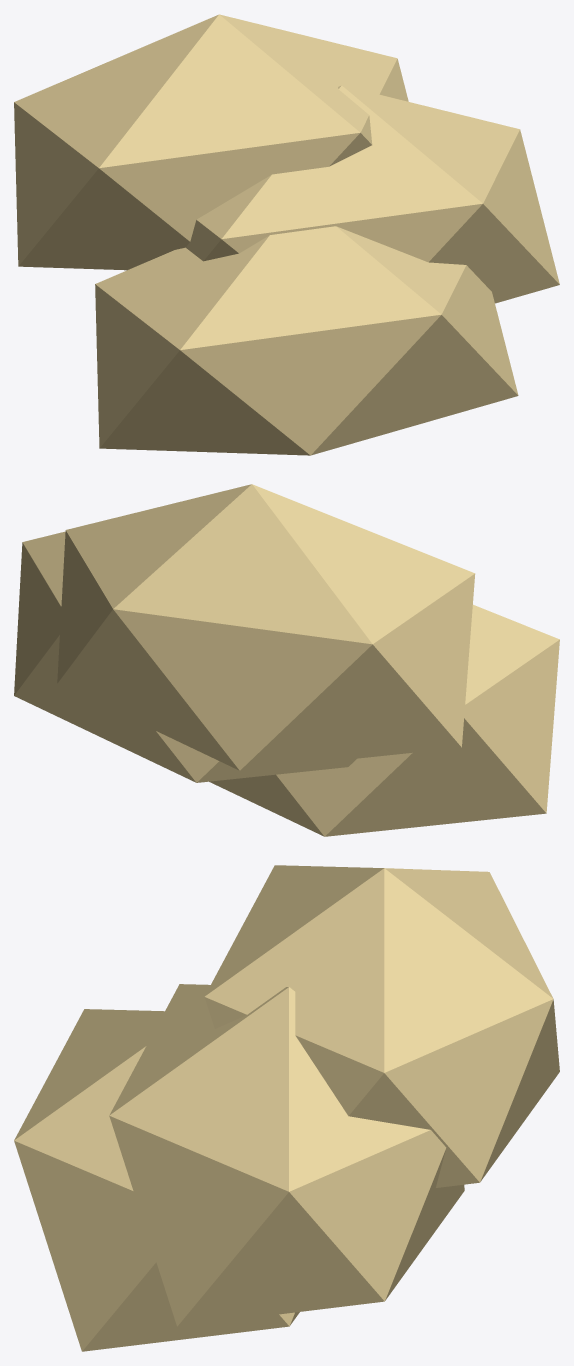
File: item_063_lentil_m.glb
3 views of the same model, one above another, from view 1: azimuth 30°, elevation 25°; view 2: azimuth 150°, elevation 25°; view 3: azimuth 270°, elevation 25° (orthographic). The views are drawn at different scales.
Parts seen in each view (by area): view 1: item_063_lentil_m; view 2: item_063_lentil_m; view 3: item_063_lentil_m.
Boxes of the visible parts, x1,y1,x2,y2 form: item_063_lentil_m: (14, 14, 559, 455); item_063_lentil_m: (14, 484, 559, 836); item_063_lentil_m: (14, 865, 559, 1351).
Size of the model in its own units: 0.3939 by 0.3058 by 0.344.
